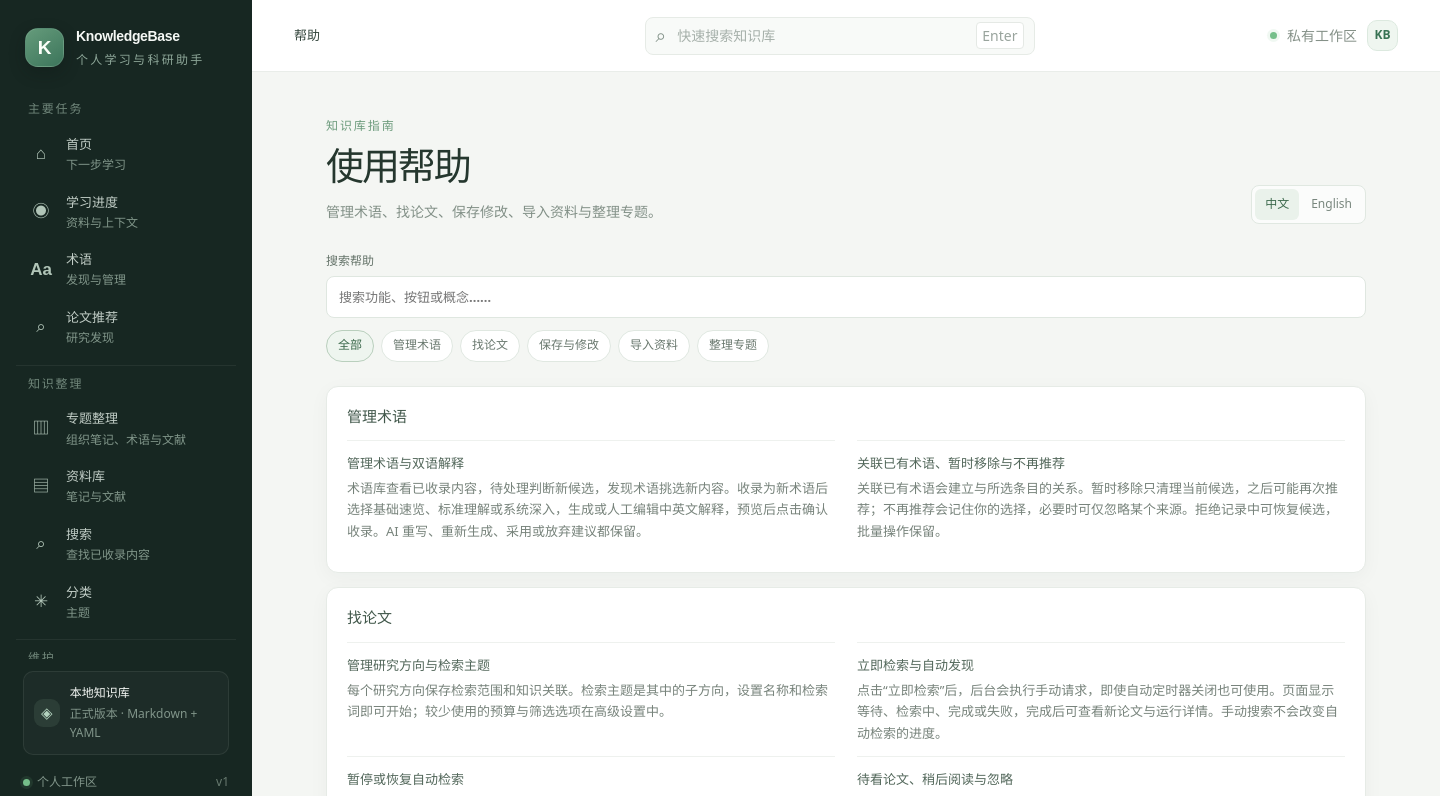
Test: is reachable from navigation, defaults to Chinese, and explains the core workflows
Expected: the heading "使用帮助" is shown, [326, 146, 470, 188]
Expected: the text "手动搜索不会改变自动检索的进度" is shown, [857, 681, 1338, 742]
Click the button "English" at (1332, 204), box [1301, 189, 1362, 220]
(page scrolled)
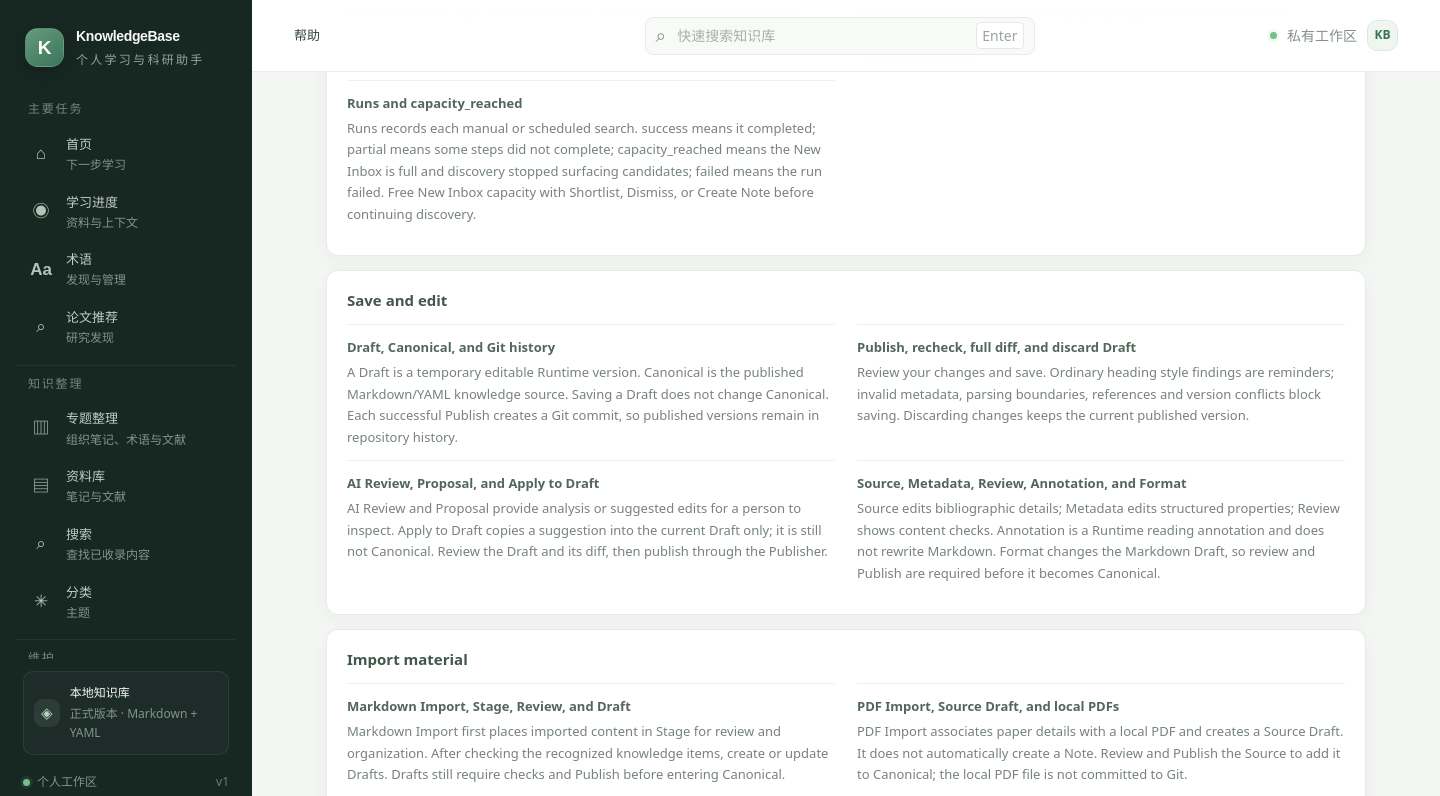
Now the text "Apply to Draft copies a suggestion into the current Draft only" is shown, box [347, 499, 828, 560]
Now the text "Each successful Publish creates a Git commit" is shown, box [347, 363, 829, 446]
